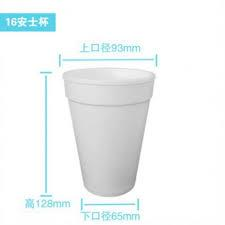Plastic cup: (60, 58, 152, 206)
